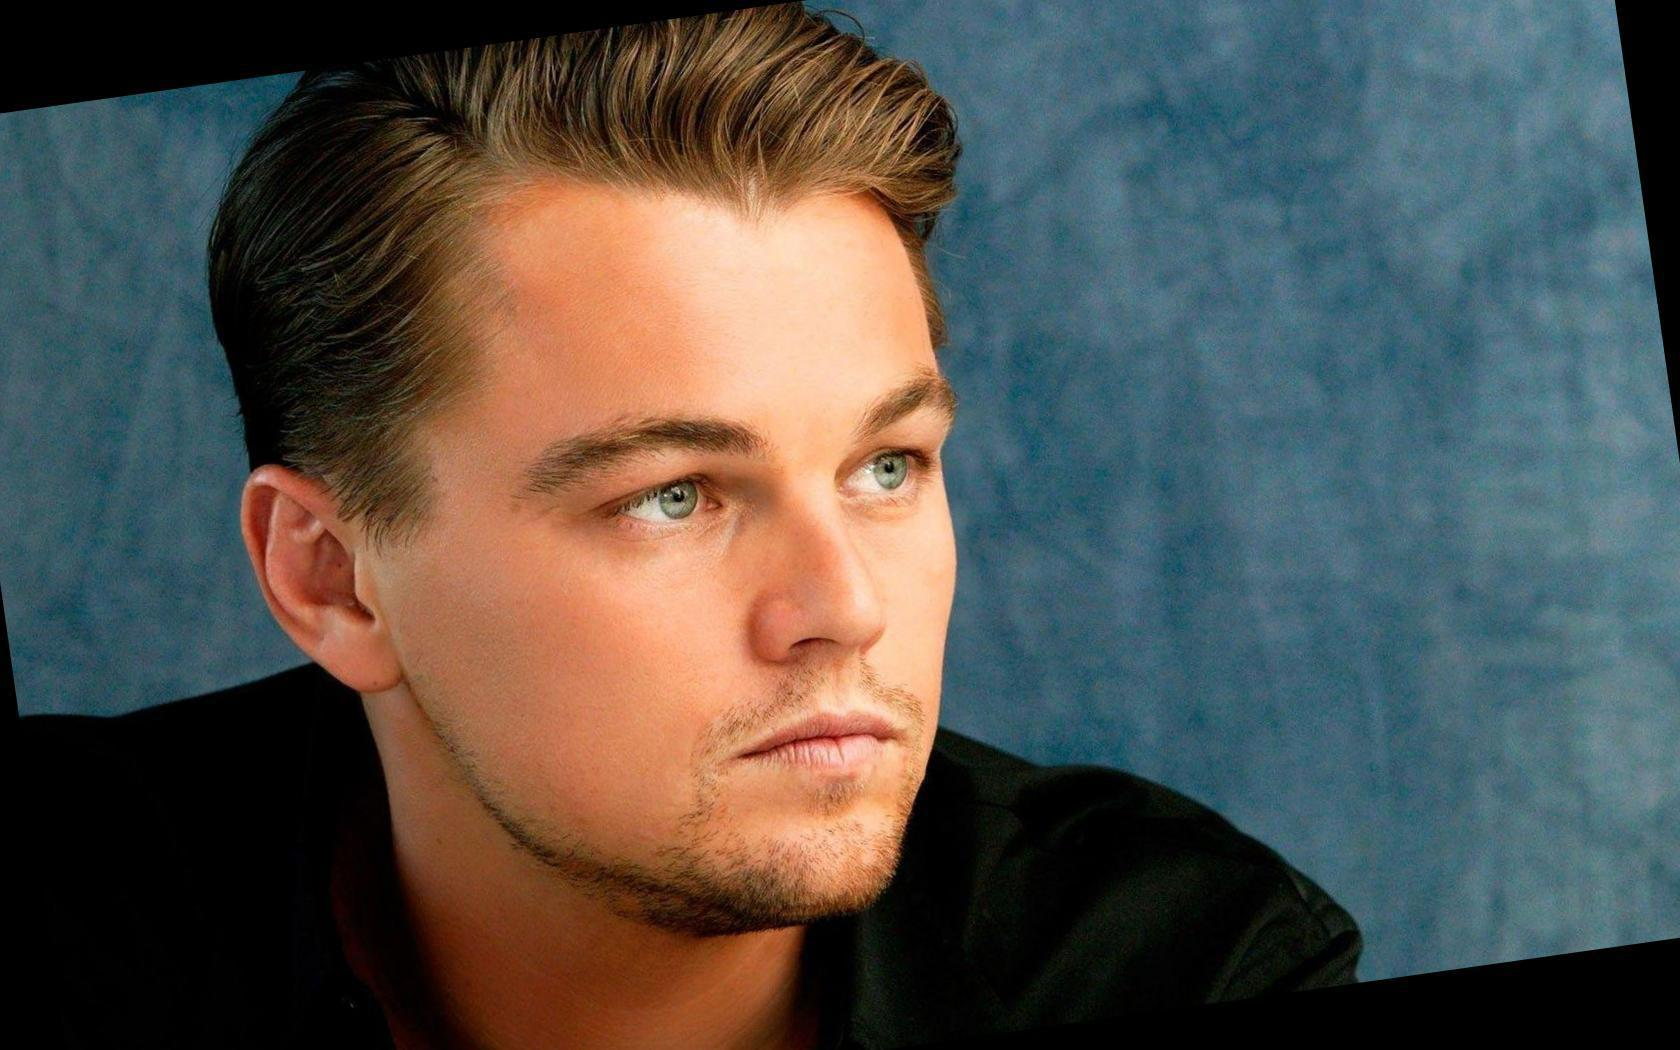Sober: (435, 186, 943, 921)
